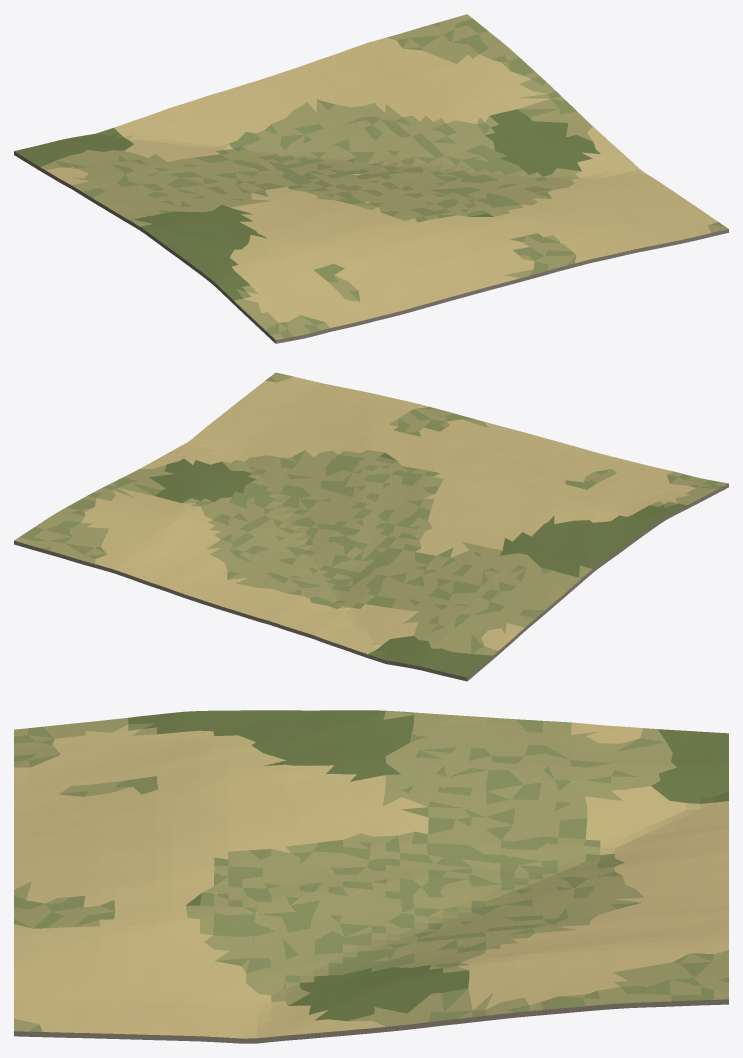
The model's file is parca_-2_-4-uzak.glb.
3 views of the same model, one above another, from view 1: azimuth 30°, elevation 25°; view 2: azimuth 150°, elevation 25°; view 3: azimuth 270°, elevation 25° (orthographic). The views are drawn at different scales.
Visible parts, largest first — view 1: parca_-2_-4_arazi_uzak; view 2: parca_-2_-4_arazi_uzak; view 3: parca_-2_-4_arazi_uzak.
Part boxes in pixels (x1=…): parca_-2_-4_arazi_uzak: x1=14, y1=14, x2=728, y2=343; parca_-2_-4_arazi_uzak: x1=14, y1=372, x2=728, y2=681; parca_-2_-4_arazi_uzak: x1=14, y1=710, x2=728, y2=1043.
Bounding box in the file's own units: 1000 × 68.97 × 1000.
